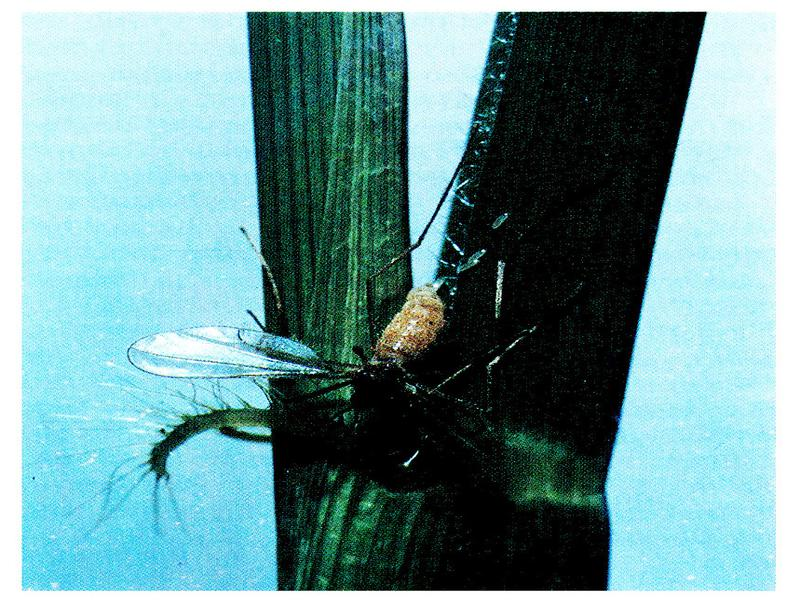Gall_midge: (124, 290, 515, 500)
